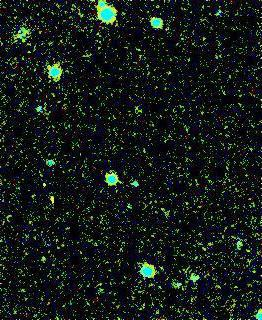star: (34, 162, 64, 192)
